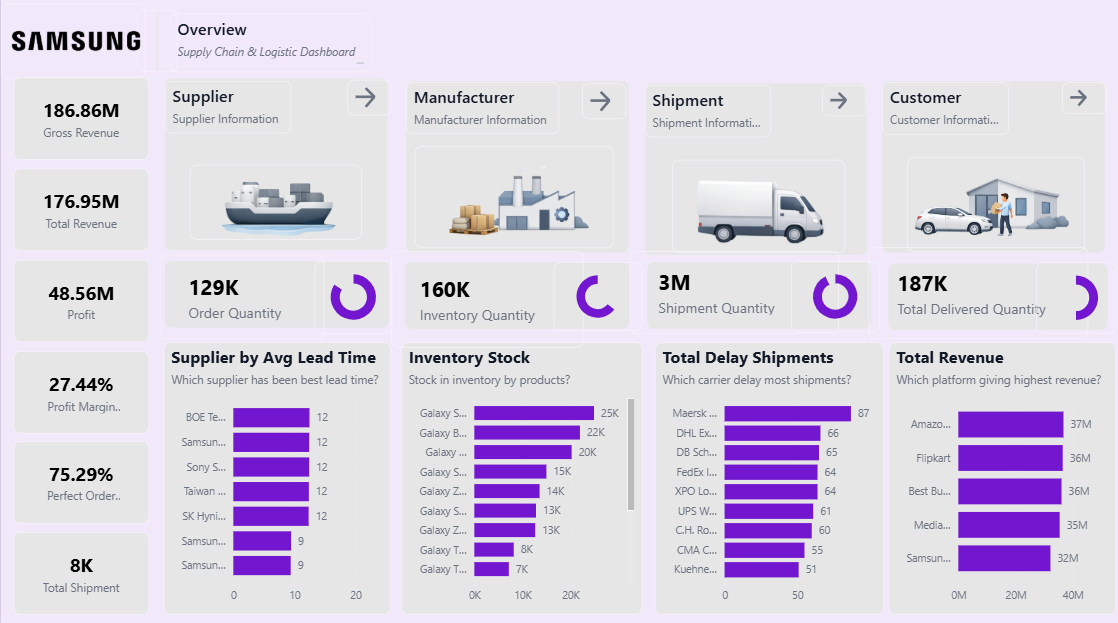

This screenshot's page, from the dashboard's own definition file:
{"tool":"powerbi","page":{"name":"Page 1","canvas":[1280,720],"ordinal":0},"visuals":[{"type":"textbox","title":"Overview","box":[192.8,20.3,230.4,66.7],"z":0},{"type":"shape","box":[186.9,94.7,254.5,196.4],"z":0,"group":"g4"},{"type":"shape","box":[155.1,15.9,46.4,71],"z":1000},{"type":"shape","box":[463.6,96.9,254,196],"z":1000,"group":"g6"},{"type":"image","box":[0,8.7,165.2,85.5],"z":2000},{"type":"shape","box":[735.5,100,253.4,196.2],"z":2000,"group":"g2"},{"type":"image","box":[215.8,193.5,196.7,85.8],"z":2000,"group":"g4"},{"type":"shape","box":[187.1,302.9,255.7,75.7],"z":2000,"group":"g8"},{"type":"shape","box":[1007.1,97.1,254,196],"z":2500,"group":"g7"},{"type":"group","id":"g1","title":"Group 2","box":[1007.1,97.1,257.1,196],"z":3000},{"type":"image","box":[473.2,171,227.3,117.1],"z":3000,"group":"g6"},{"type":"group","id":"g2","title":"Group 3","box":[735.4,100,254,196],"z":4000},{"type":"image","box":[767.1,187.9,197.2,106.6],"z":4000,"group":"g2"},{"type":"group","id":"g3","title":"Group 6","box":[186.9,94.7,258.8,196.4],"z":5000},{"type":"image","box":[1035.2,184.8,203.1,107.7],"z":5000,"group":"g7"},{"type":"group","id":"g4","title":"Group 4","box":[186.9,94.7,254.5,196.4],"z":6000,"group":"g3"},{"type":"group","id":"g5","title":"Group 7","box":[463.6,96.9,254,196],"z":6000},{"type":"textbox","title":"Supplier","box":[186.9,97.3,144.6,59.8],"z":6000,"group":"g4"},{"type":"cardVisual","fields":{"Data":["Sum(fact_sales.gross_revenue)"]},"box":[14.2,93.3,155,94.2],"z":7000},{"type":"group","id":"g6","title":"Group 5","box":[463.6,96.9,254,196],"z":7000,"group":"g5"},{"type":"textbox","title":"Manufacturer","box":[464.3,99,175.3,59.2],"z":7000,"group":"g6"},{"type":"actionButton","box":[665.1,100,50.7,40.6],"z":8000,"group":"g5"},{"type":"cardVisual","fields":{"Data":["measure_table.Total Revenue"]},"box":[14.2,197.3,155,94.2],"z":8000},{"type":"actionButton","box":[395,96.2,50.7,40.6],"z":8500,"group":"g3"},{"type":"actionButton","box":[938.4,102.1,50.4,36.4],"z":9000,"group":"g2"},{"type":"cardVisual","fields":{"Data":["measure_table.total_profit"]},"box":[14.2,301.2,155,94.2],"z":9000},{"type":"cardVisual","fields":{"Data":["measure_table.profit margin %"]},"box":[14.2,405.2,155,94.2],"z":10000},{"type":"cardVisual","fields":{"Data":["measure_table.perfect_order %"]},"box":[14.2,509.2,155,94.2],"z":11000},{"type":"cardVisual","fields":{"Data":["measure_table.total_shipment"]},"box":[14.4,613.1,155,94.4],"z":12000},{"type":"textbox","title":"Customer","box":[1007.7,99.2,145,59.7],"z":12004,"group":"g7"},{"type":"textbox","title":"Shipment","box":[735.4,102.1,144,59.8],"z":13000,"group":"g2"},{"type":"clusteredBarChart","title":"Supplier by Avg Lead Time","fields":{"Category":["dim_supplier.supplier_name"],"Y":["measure_table.avg_lead_time"]},"box":[185.7,395.7,260,311.4],"z":13000},{"type":"cardVisual","fields":{"Data":["measure_table.ORDER_QTY"]},"box":[182,296,187.8,96.7],"z":14000,"group":"g8"},{"type":"clusteredBarChart","title":"Inventory Stock","fields":{"Y":["measure_table.inventory_value"],"Category":["dim_product.product_name"]},"box":[457.1,395.7,275.7,311.4],"z":14000},{"type":"shape","box":[461,304.3,257.1,75.7],"z":15000,"group":"g9"},{"type":"clusteredBarChart","title":"Total Delay Shipments","fields":{"Y":["measure_table.TOTAL_DELAY"],"Category":["fact_shipment.carrier"]},"box":[747.1,395.7,261.4,311.4],"z":15000},{"type":"shape","box":[737.6,304.3,255.7,75.7],"z":16000,"group":"g10"},{"type":"clusteredBarChart","title":"Total Revenue","fields":{"Y":["measure_table.Total Revenue"],"Category":["dim_customer.customer_name"]},"box":[1014.3,395.7,260,311.4],"z":16000},{"type":"group","id":"g7","title":"Group 1","box":[1007.1,97.1,254,196],"z":17000,"group":"g1"},{"type":"group","id":"g8","title":"Group 8","box":[182,296,260.9,96.7],"z":17000},{"type":"shape","box":[1014.3,305.7,250,75.7],"z":17000,"group":"g11"},{"type":"actionButton","box":[1212.8,98.2,51.5,35.8],"z":17500,"group":"g1"},{"type":"group","id":"g9","title":"Group 9","box":[445.8,291.9,272.3,110],"z":18000},{"type":"cardVisual","fields":{"Data":["measure_table.inventory_value"]},"box":[445.8,291.9,220,110],"z":18000,"group":"g9"},{"type":"cardVisual","fields":{"Data":["measure_table.totall_shipment"]},"box":[718,292,239,94],"z":19000,"group":"g10"},{"type":"donutChart","fields":{"Y":["measure_table.safety_stock","measure_table.inventory_value"]},"box":[631.4,304.3,101.4,78.6],"z":19000},{"type":"cardVisual","fields":{"Data":["measure_table.total_delivered_quantity"]},"box":[991.5,287.5,251.1,104.4],"z":20000,"group":"g11"},{"type":"group","id":"g10","title":"Group 10","box":[718,292,275.3,94],"z":20000},{"type":"group","id":"g11","title":"Group 11","box":[991.5,287.5,272.8,104.4],"z":21000},{"type":"donutChart","fields":{"Y":["measure_table.total_shipment","measure_table.TOTAL_DELAY"]},"box":[902.9,302.9,101.4,81.4],"z":21500},{"type":"donutChart","fields":{"Y":["measure_table.TOTAL_DELAY_qty","measure_table.total_delivered_quantity"]},"box":[1182.3,304.6,91.5,81.5],"z":22000},{"type":"donutChart","fields":{"Y":["measure_table.ORDER_QTY","measure_table.defect_rate"]},"box":[358.6,302.9,88.6,82.9],"z":22500}]}

Visuals, with their boxes in screenshot pixels (x1, y1, x2, y2), scaled from the page's 1280x720 canvas onto the 1118x623 screenshot:
"Overview" textbox: region(168, 18, 370, 75)
shape: region(163, 82, 386, 252)
shape: region(135, 14, 176, 75)
shape: region(405, 84, 627, 253)
image: region(0, 8, 144, 82)
shape: region(642, 87, 864, 256)
image: region(188, 167, 360, 242)
shape: region(163, 262, 387, 328)
shape: region(880, 84, 1101, 254)
"Group 2" group: region(880, 84, 1104, 254)
image: region(413, 148, 612, 249)
"Group 3" group: region(642, 87, 864, 256)
image: region(670, 163, 842, 255)
"Group 6" group: region(163, 82, 389, 252)
image: region(904, 160, 1082, 253)
"Group 4" group: region(163, 82, 386, 252)
"Group 7" group: region(405, 84, 627, 253)
"Supplier" textbox: region(163, 84, 290, 136)
cardVisual - Sum(fact_sales.gross_revenue): region(12, 81, 148, 162)
"Group 5" group: region(405, 84, 627, 253)
"Manufacturer" textbox: region(406, 86, 559, 137)
actionButton: region(581, 87, 625, 122)
cardVisual - measure_table.Total Revenue: region(12, 171, 148, 252)
actionButton: region(345, 83, 389, 118)
actionButton: region(820, 88, 864, 120)
cardVisual - measure_table.total_profit: region(12, 261, 148, 342)
cardVisual - measure_table.profit margin %: region(12, 351, 148, 432)
cardVisual - measure_table.perfect_order %: region(12, 441, 148, 522)
cardVisual - measure_table.total_shipment: region(13, 531, 148, 612)
"Customer" textbox: region(880, 86, 1007, 137)
"Shipment" textbox: region(642, 88, 768, 140)
"Supplier by Avg Lead Time" clusteredBarChart: region(162, 342, 389, 612)
cardVisual - measure_table.ORDER_QTY: region(159, 256, 323, 340)
"Inventory Stock" clusteredBarChart: region(399, 342, 640, 612)
shape: region(403, 263, 627, 329)
"Total Delay Shipments" clusteredBarChart: region(653, 342, 881, 612)
shape: region(644, 263, 868, 329)
"Total Revenue" clusteredBarChart: region(886, 342, 1113, 612)
"Group 1" group: region(880, 84, 1101, 254)
"Group 8" group: region(159, 256, 387, 340)
shape: region(886, 265, 1104, 330)
actionButton: region(1059, 85, 1104, 116)
"Group 9" group: region(389, 253, 627, 348)
cardVisual - measure_table.inventory_value: region(389, 253, 582, 348)
cardVisual - measure_table.totall_shipment: region(627, 253, 836, 334)
donutChart - measure_table.safety_stock x measure_table.inventory_value: region(551, 263, 640, 331)
cardVisual - measure_table.total_delivered_quantity: region(866, 249, 1085, 339)
"Group 10" group: region(627, 253, 868, 334)
"Group 11" group: region(866, 249, 1104, 339)
donutChart - measure_table.total_shipment x measure_table.TOTAL_DELAY: region(789, 262, 877, 333)
donutChart - measure_table.TOTAL_DELAY_qty x measure_table.total_delivered_quantity: region(1033, 264, 1113, 334)
donutChart - measure_table.ORDER_QTY x measure_table.defect_rate: region(313, 262, 391, 334)
